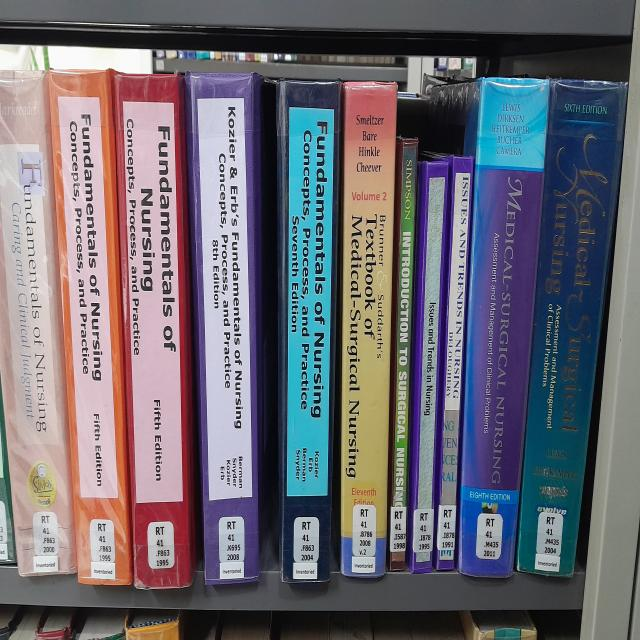book: (516, 79, 627, 577), (457, 78, 549, 576), (111, 74, 195, 589), (49, 70, 131, 585), (185, 73, 262, 585), (0, 71, 77, 577), (276, 80, 341, 583), (340, 82, 397, 574), (405, 159, 450, 572), (435, 157, 474, 569), (388, 137, 418, 570)
